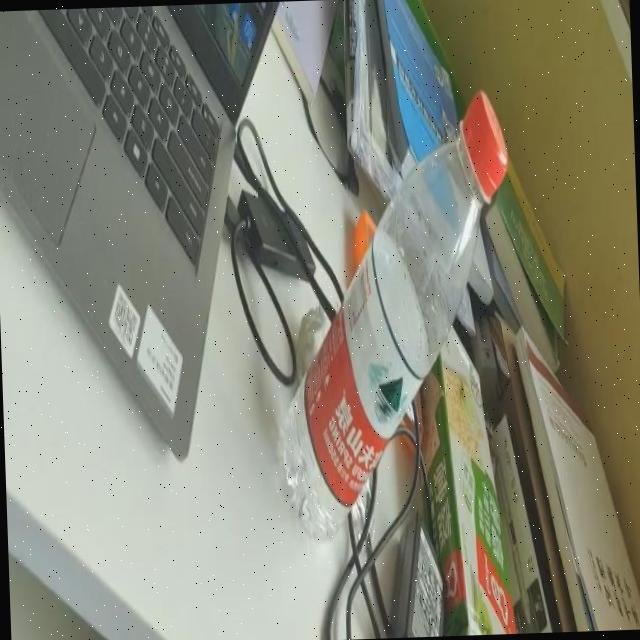bottle: (266, 85, 522, 552)
cap: (448, 95, 512, 192)
label: (302, 243, 422, 516)
